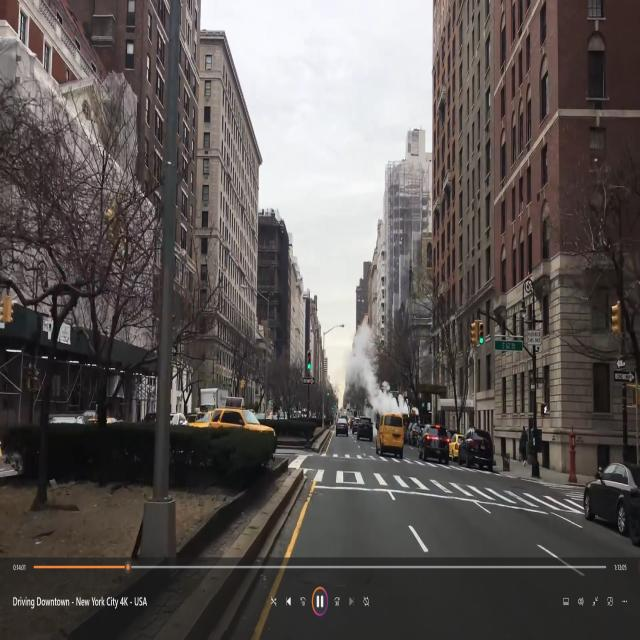Crosswalk: (313, 464, 577, 510)
